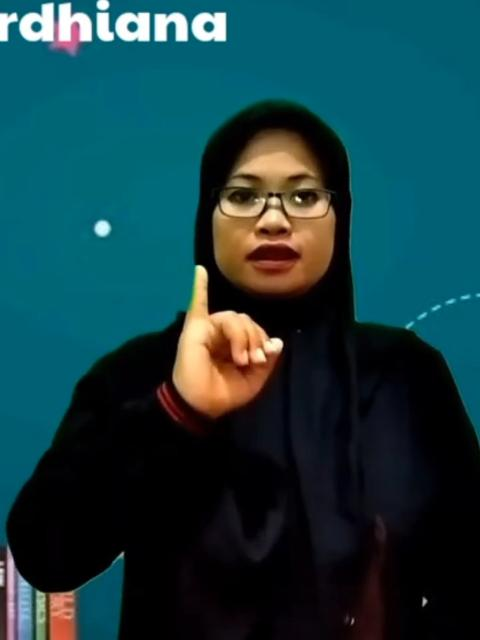I: (162, 260, 288, 418)
